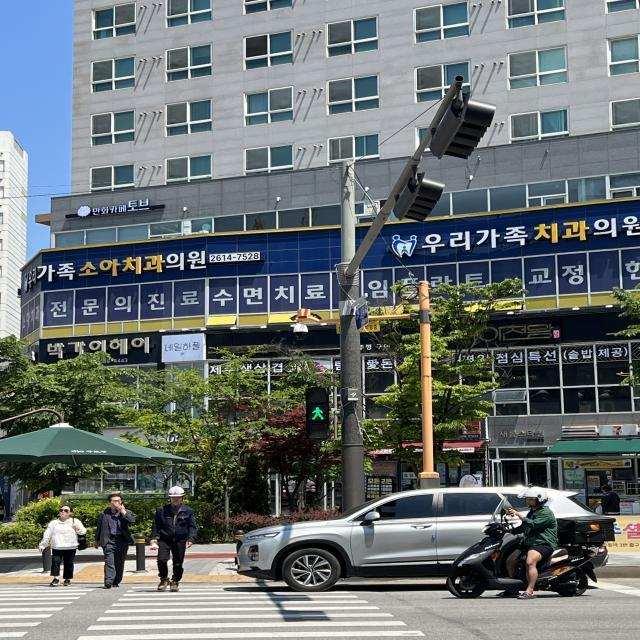crosswalk: (1, 575, 452, 640)
geen-crossing: (302, 391, 334, 446)
